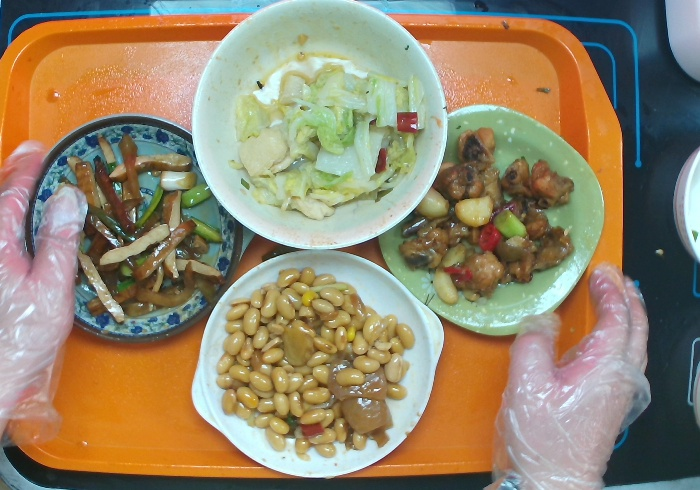NLDX-Bai_Se_Shuang_Er_Die: (189, 250, 447, 473)
NLDX-Bai_Se_Yuan_Wan: (186, 1, 441, 249)
NLDX-Lv_Hua_Fang_Die: (371, 98, 613, 348)
NLDX-Qing_Hua_Shuang_Er_Die: (20, 106, 250, 344)
